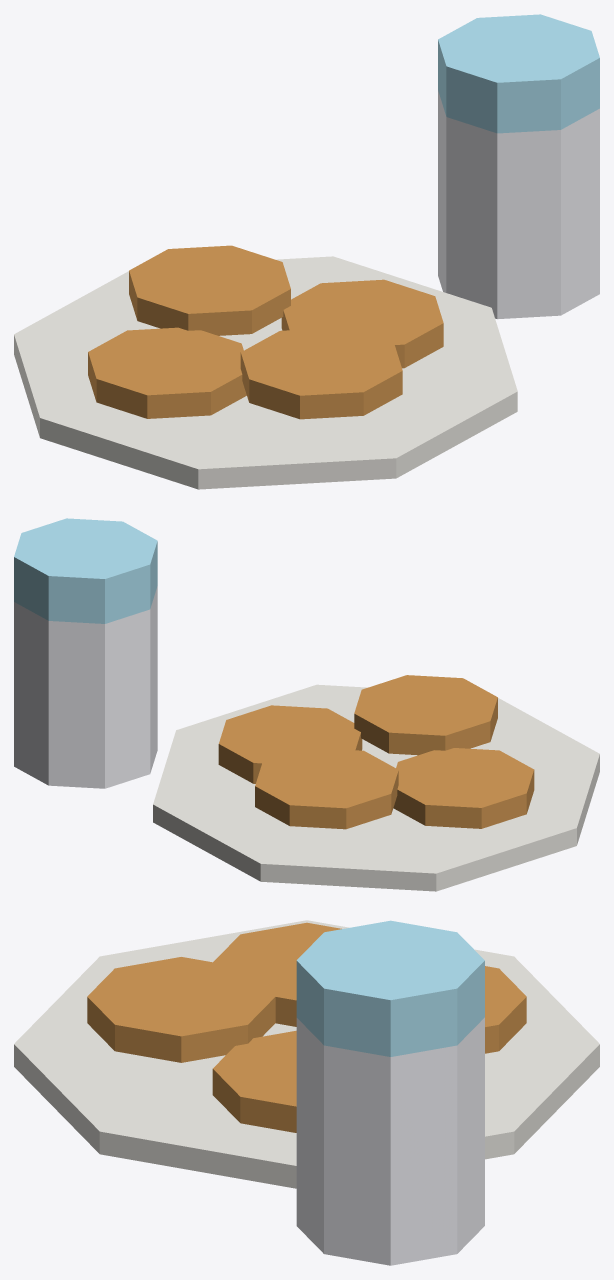
The model's file is CookiesAndMilk.fbx.
The picture shows the model from 3 angles, top to bottom: view 1: azimuth 30°, elevation 25°; view 2: azimuth 150°, elevation 25°; view 3: azimuth 270°, elevation 25°; orthographic projection. The views are drawn at different scales.
Parts seen in each view (by area): view 1: CookiesAndMilk; view 2: CookiesAndMilk; view 3: CookiesAndMilk.
Part boxes in pixels (x1,y1,x2,y2): CookiesAndMilk: (14, 14, 599, 489); CookiesAndMilk: (14, 518, 599, 891); CookiesAndMilk: (14, 920, 599, 1265).
Size of the model in its own units: 3.65 by 1.4 by 2.8.
1 material, 1 textured.
